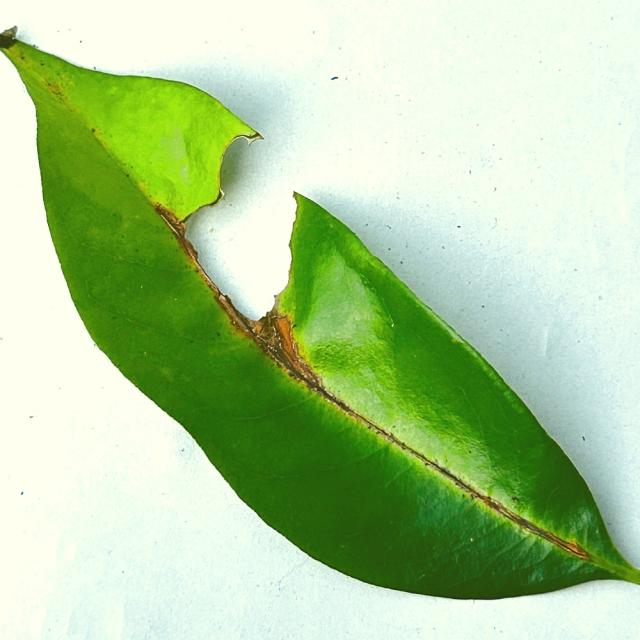Deficiency Leaf: (186, 108, 296, 319)
Lychee: (4, 41, 639, 598)
